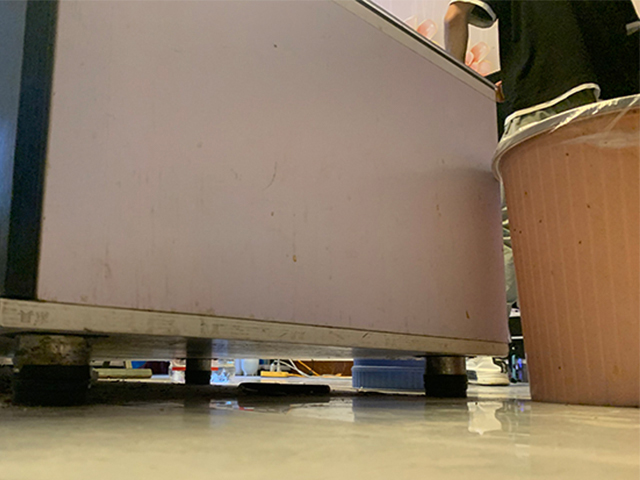table: (1, 1, 512, 404)
trashcan: (490, 92, 640, 407)
